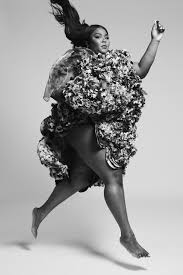black_female: (81, 23, 112, 58)
